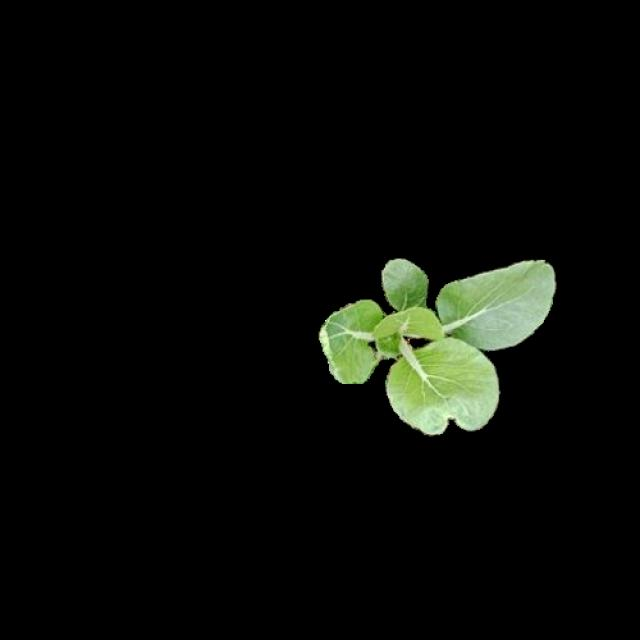not-mature: (321, 257, 558, 433)
unhealthy: (389, 339, 501, 433), (322, 301, 382, 381)
